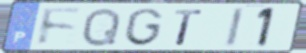1: (254, 6, 278, 49)
F: (37, 6, 84, 48)
G: (123, 7, 165, 48)
I: (223, 6, 247, 49)
Q: (80, 6, 123, 48)
T: (173, 8, 204, 47)
